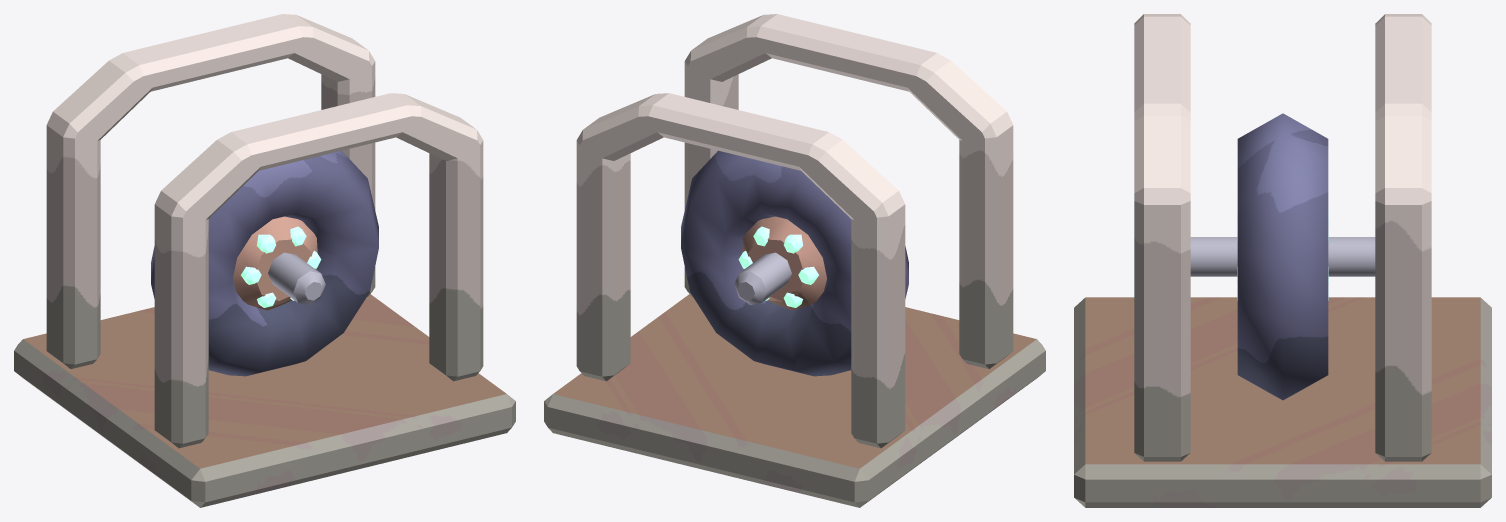
File: R4X_MovementDurabilityBooster_LOD1.glb
The picture shows the model from 3 angles, left to right: view 1: azimuth 30°, elevation 25°; view 2: azimuth 150°, elevation 25°; view 3: azimuth 270°, elevation 25°; orthographic projection. The views are drawn at different scales.
Visible parts, largest first — view 1: R4X_MovementDurabilityBooster_LOD1; view 2: R4X_MovementDurabilityBooster_LOD1; view 3: R4X_MovementDurabilityBooster_LOD1.
Part boxes in pixels (x1,y1,x2,y2): R4X_MovementDurabilityBooster_LOD1: (14,14,515,507); R4X_MovementDurabilityBooster_LOD1: (544,14,1045,507); R4X_MovementDurabilityBooster_LOD1: (1074,14,1491,507).
Size of the model in its own units: 0.52 by 0.5 by 0.52.
Materials: 5 (4 with a texture image).
